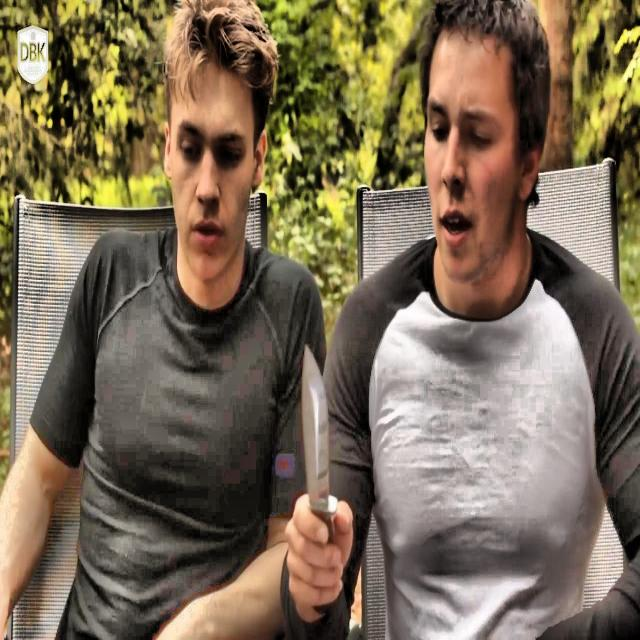knife: (303, 346, 338, 614)
